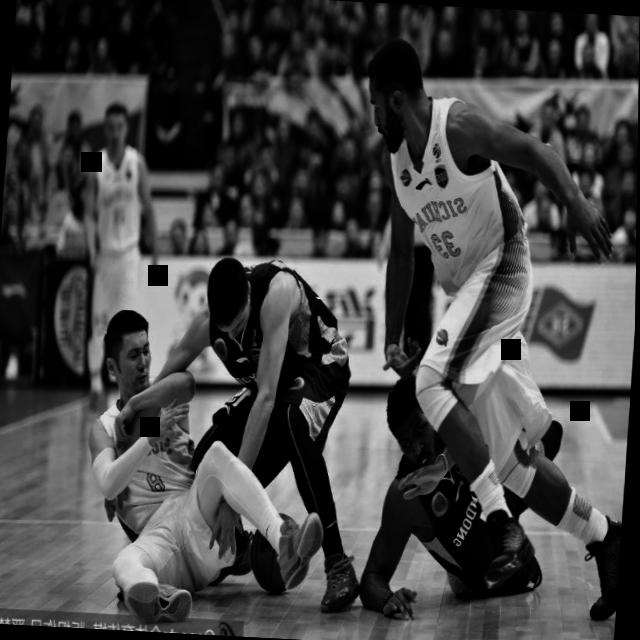Fall-Detected: (345, 368, 554, 634)
